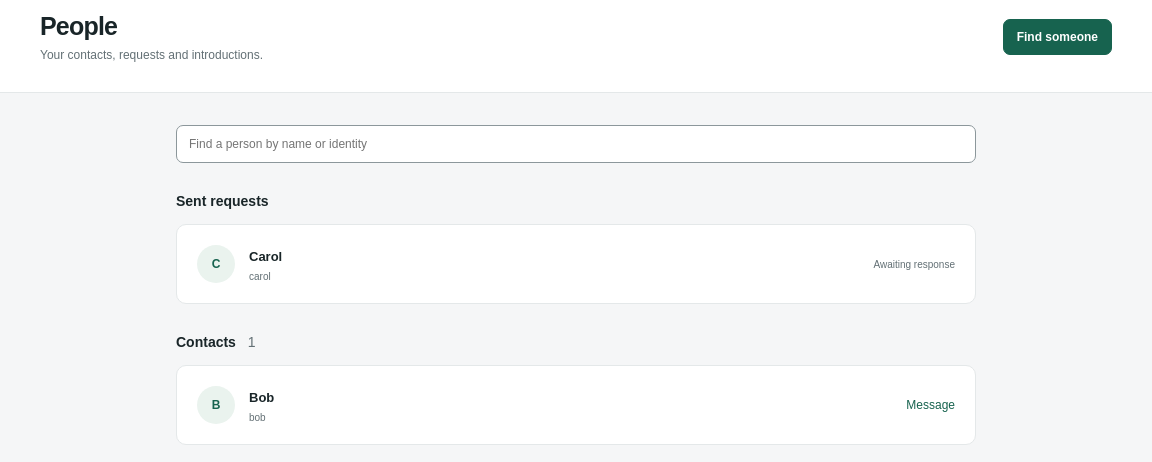
Test case: separates pending requests from contacts and filters by name or identity
The image size is (1152, 462).
Expected: the heading "Sent requests" is shown, [176,193,269,209]
Type "BOB" into the search field labelled "Find a person" at (576, 144), box [176,125,976,163]
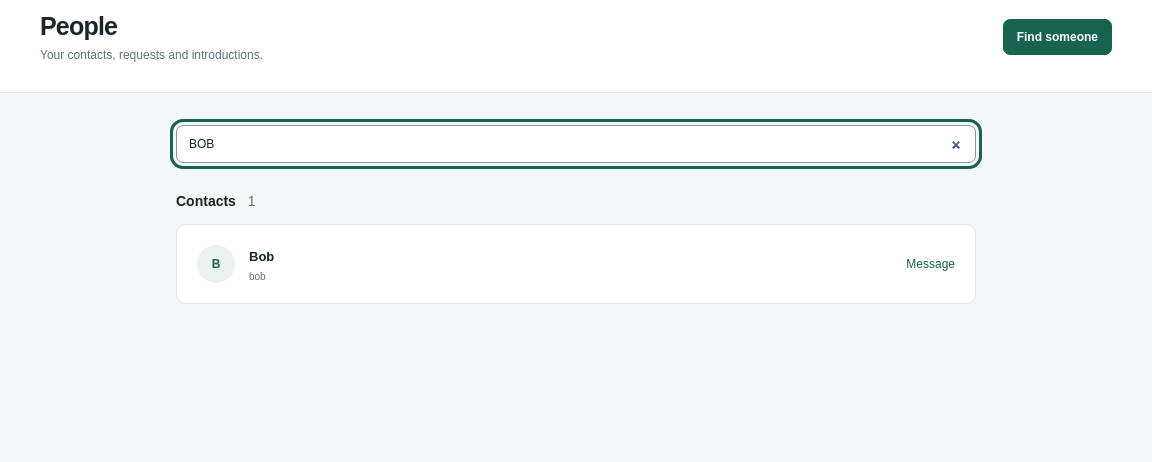
Expected: the link "Bob" is shown, [249,248,274,264]
Now the link "Carol" is gone
